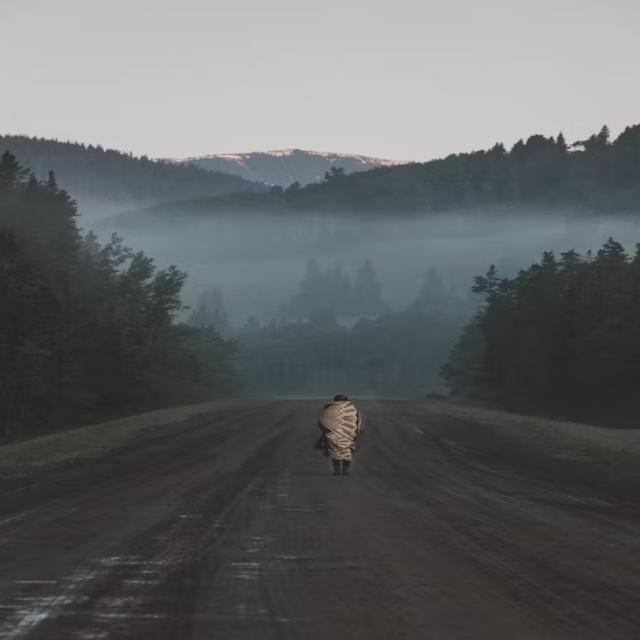Edited images: (299, 377, 394, 526)
